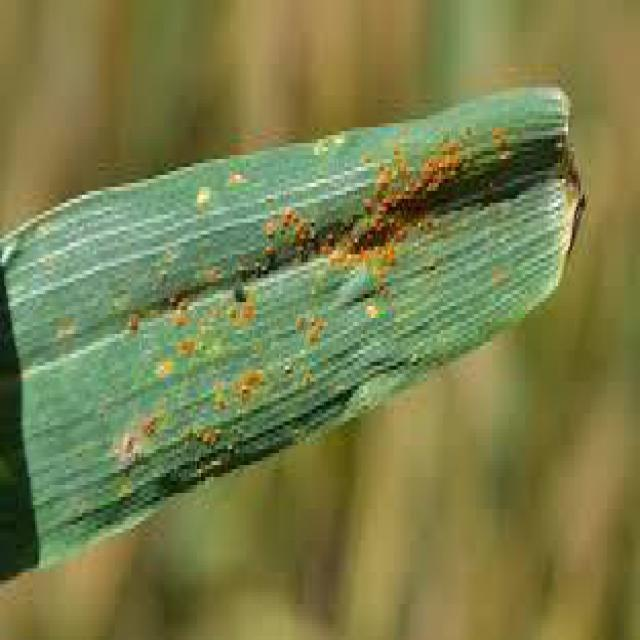wheat-stemrust: (0, 83, 587, 580), (261, 136, 470, 322), (104, 402, 165, 468), (212, 374, 269, 421), (488, 126, 515, 170)
